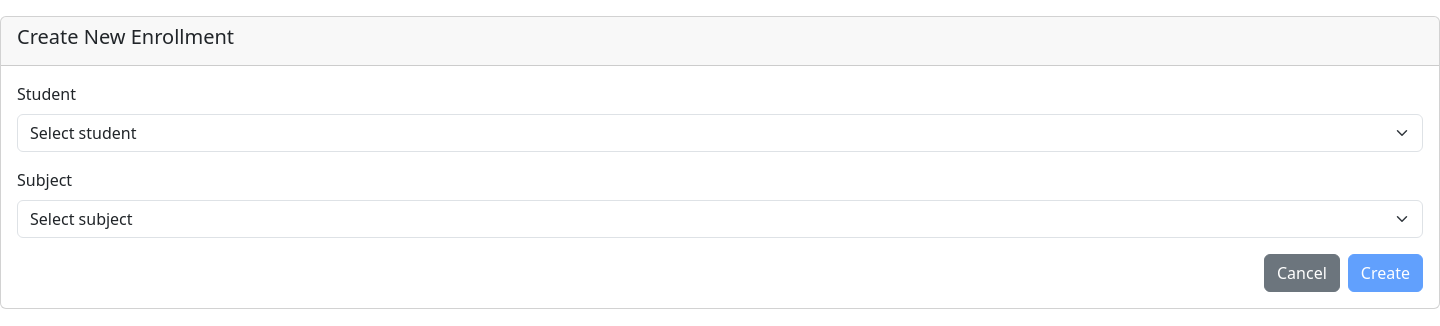
Test: EnrollmentCreateForm › keeps Create disabled until both student and subject are chosen
Expected: the button "Create" is disabled, [1348, 254, 1423, 292]
Step 1. Select "Ana Anić" in the dropdown labelled "Student" → point(720, 133), box [17, 114, 1423, 152]
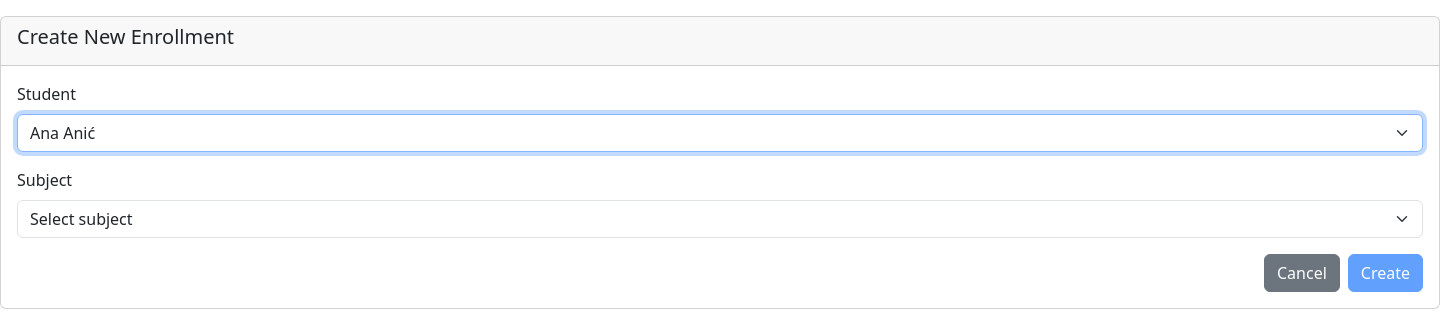
Step 2. Select "Databases" in the dropdown labelled "Subject" → point(720, 219), box [17, 200, 1423, 238]
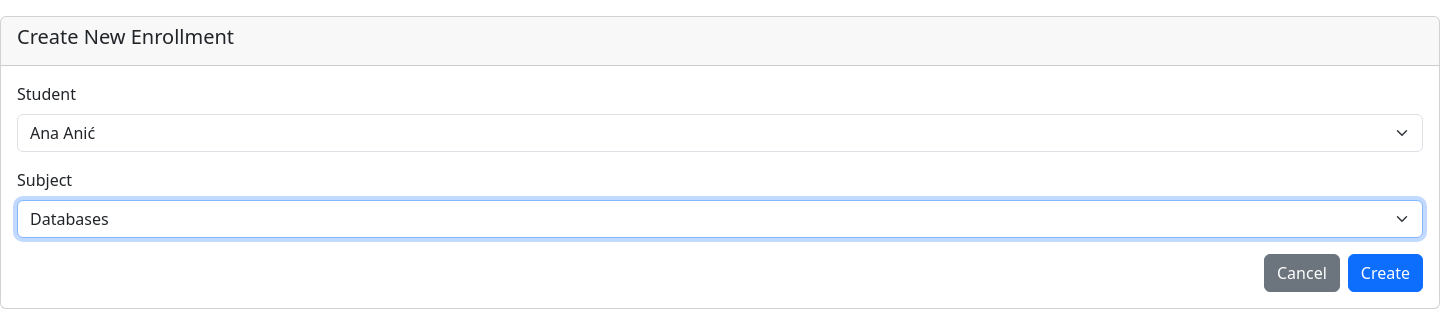
Result: the button "Create" is enabled at [1348, 254, 1423, 292]
